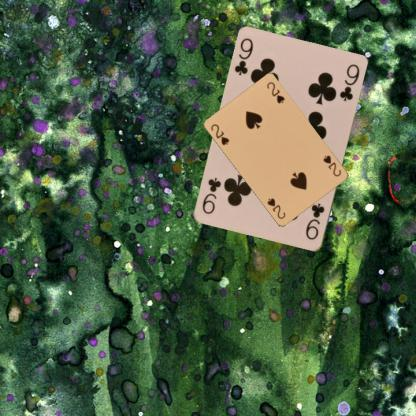2s: (320, 152, 342, 178), (208, 121, 230, 147)
9c: (303, 201, 326, 242), (232, 36, 254, 77)
